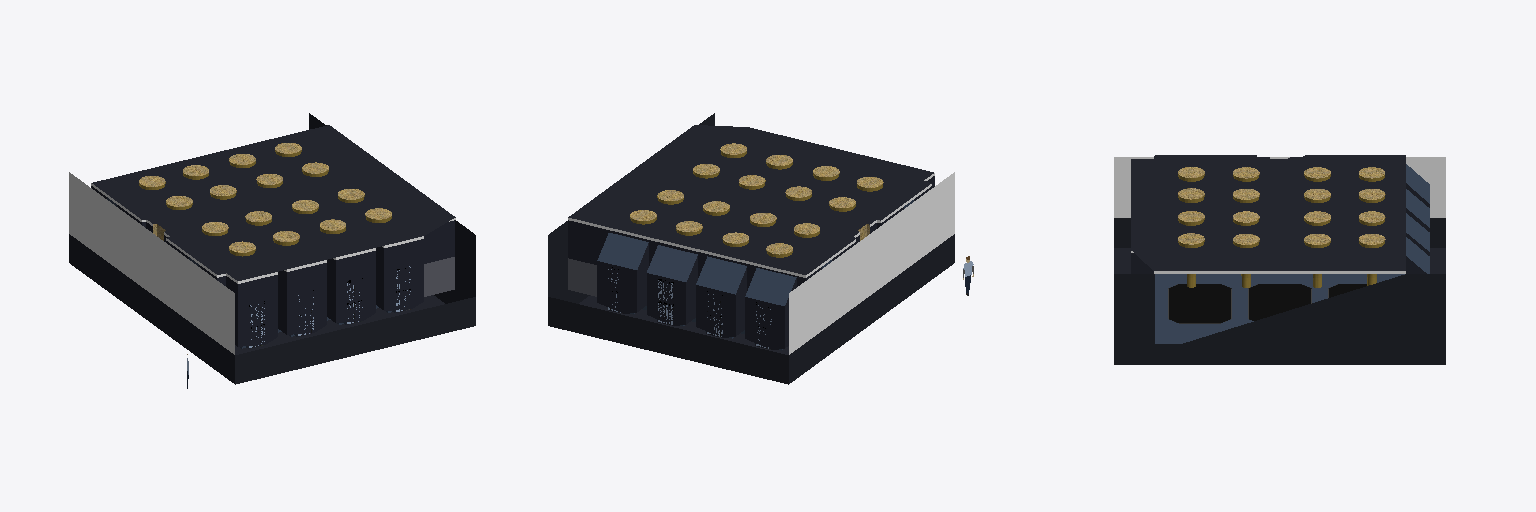
3 views of the same model, side by side, from view 1: azimuth 30°, elevation 25°; view 2: azimuth 150°, elevation 25°; view 3: azimuth 270°, elevation 25° (orthographic).
Visible parts, largest first — view 1: Mesh2 Model; view 2: Mesh2 Model; view 3: Mesh2 Model.
Boxes of the visible parts, x1,y1,x2,y2 form: Mesh2 Model: [69, 113, 475, 384]; Mesh2 Model: [548, 113, 954, 384]; Mesh2 Model: [1114, 155, 1445, 364].
Bounding box in the file's own units: 1304 × 504 × 1375.
24 materials, 4 textured.